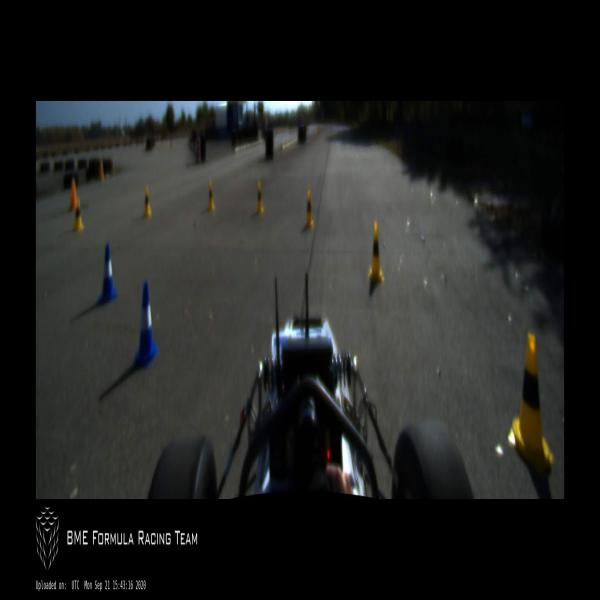blue_cone: (132, 281, 159, 368), (98, 244, 117, 304)
yellow_cone: (509, 333, 554, 476), (368, 222, 385, 283), (304, 187, 314, 228), (73, 198, 83, 232), (142, 187, 151, 217), (256, 182, 263, 213), (207, 181, 214, 211)
